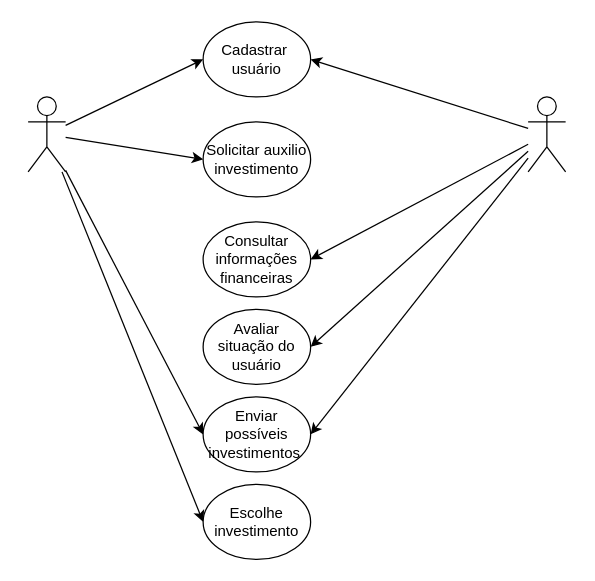
The diagram is 595 pixels wide and 581 high, and some of its shapes have lost their labels. Here are the shapes that lost their labels. From the top down, the centre of each, then its label:
point (46, 134): Usuário
point (546, 134): Sistema
